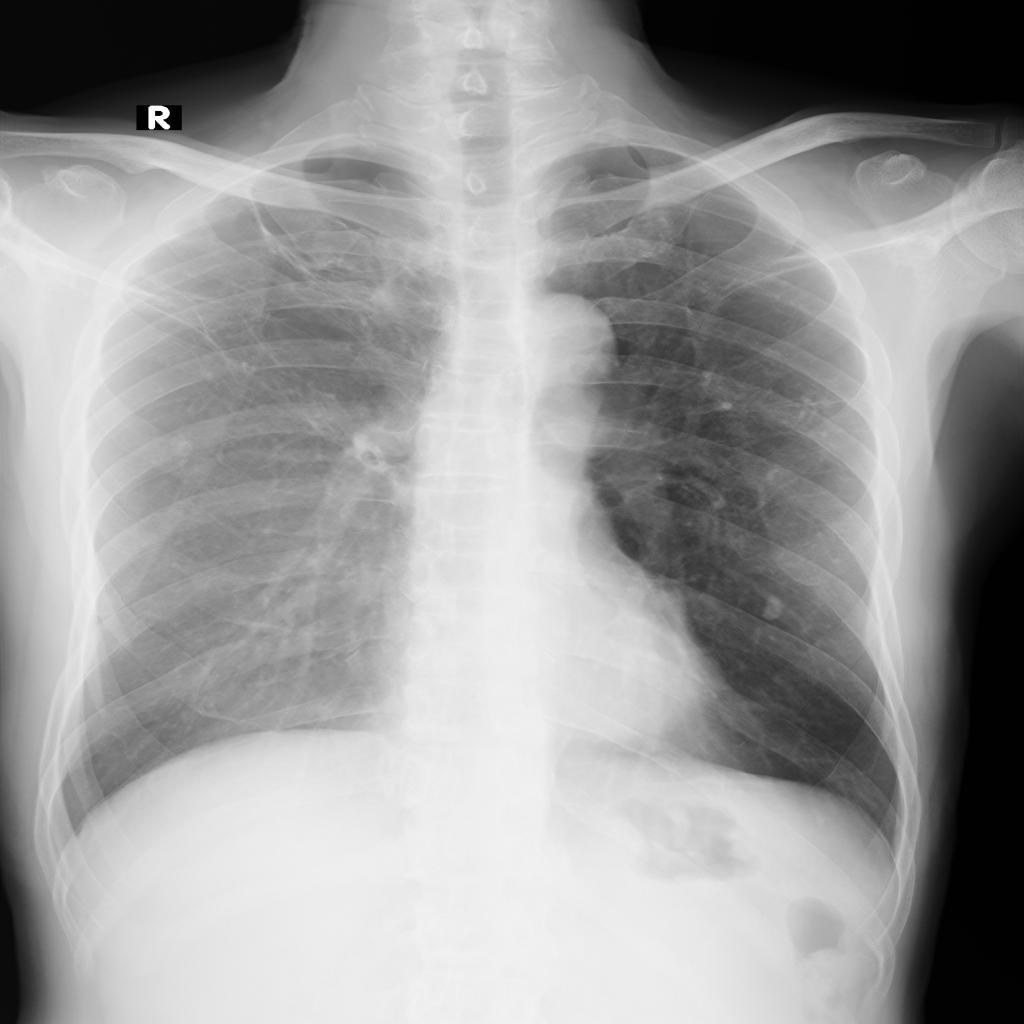Nodule: (757, 593, 785, 620)
